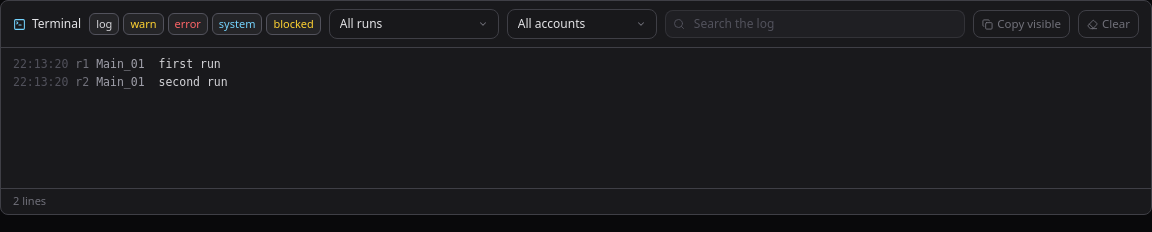
Test: PythonTerminal › filters by run
Check: the text "second run" is shown, box left=158, top=75, right=228, bottom=89
Click the button with aria-label "Filter by run" at (414, 24), box left=329, top=9, right=499, bottom=39
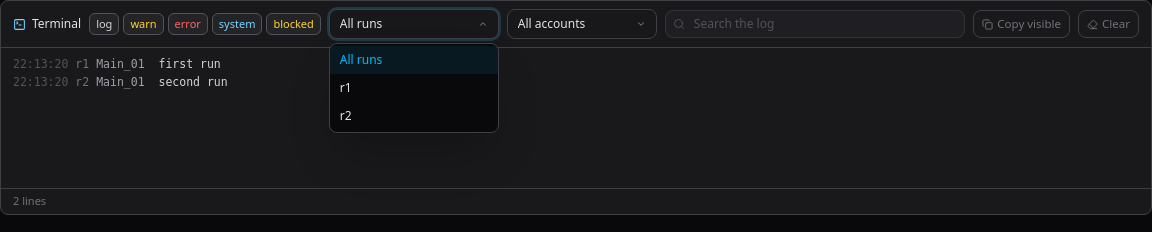
Click the button "r2" at (414, 116), box left=330, top=102, right=498, bottom=130
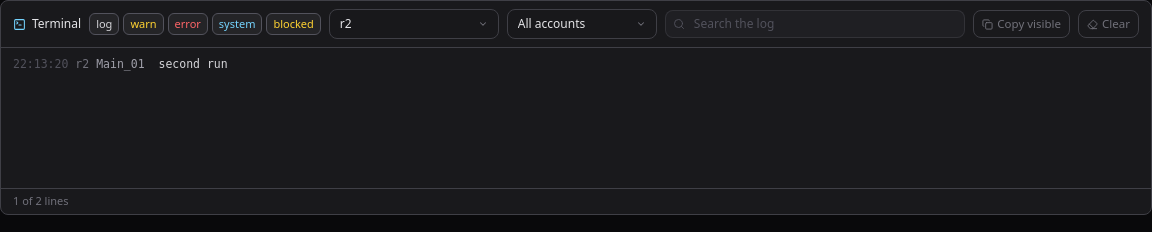
Check: the text "second run" is shown, box left=158, top=57, right=228, bottom=71
Check: the text "first run" is gone
